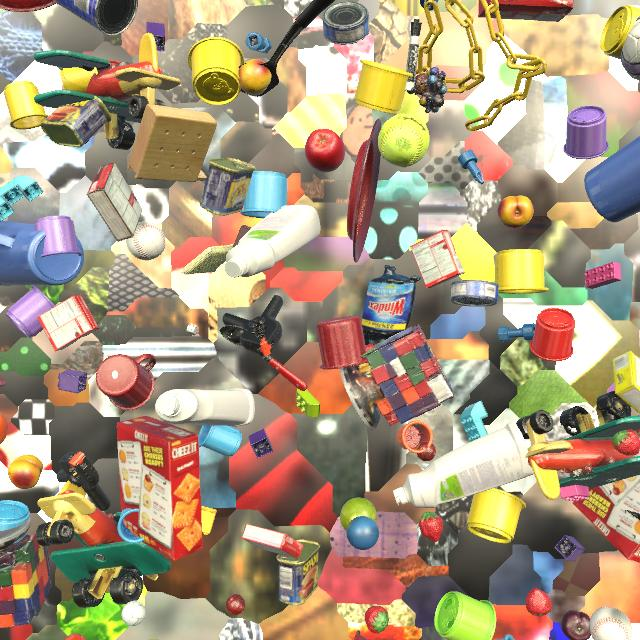ycb_002_master_chef_can: (56, 0, 138, 36)
ycb_003_cracker_box: (117, 416, 203, 561), (572, 429, 640, 563), (478, 0, 573, 22)
ycb_004_sugar_box: (613, 350, 640, 414)
ycb_007_tuna_fish_can: (322, 1, 370, 45), (451, 280, 499, 307)
ycb_008_pudding_box: (87, 163, 143, 242)
ycb_009_gelatin_box: (37, 294, 99, 351), (410, 230, 465, 288), (241, 524, 303, 558)
ycb_010_potted_meat_can: (41, 96, 112, 147), (200, 158, 256, 216), (276, 540, 320, 606)
ycb_012_strawberry: (525, 588, 552, 616), (612, 430, 640, 456), (419, 512, 443, 542), (365, 605, 389, 634), (365, 344, 376, 364)
ycb_013_apple: (305, 128, 345, 172)
ycb_015_peach: (8, 455, 43, 489), (238, 59, 271, 95), (498, 195, 534, 228)
ycb_016_pear: (340, 498, 377, 530)
ycb_017_orange: (0, 412, 8, 444)
ycb_018_plum: (561, 610, 591, 640)
